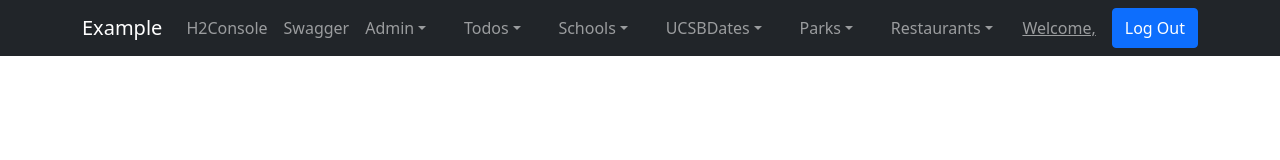
AppNavbar tests › renders the parks menu correctly for a user
expect the element with test id "appnavbar-parks-dropdown" is shown: met, box [800,17,841,39]
Click the button "Parks" at (826, 28), box [792,8,861,48]
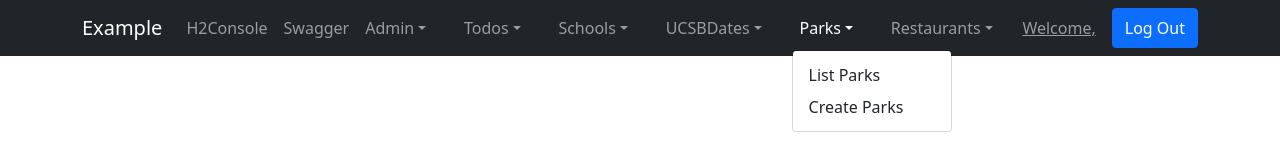
expect the link with test id "appnavbar-parks-list" is shown: met, box [808,64,880,86]
